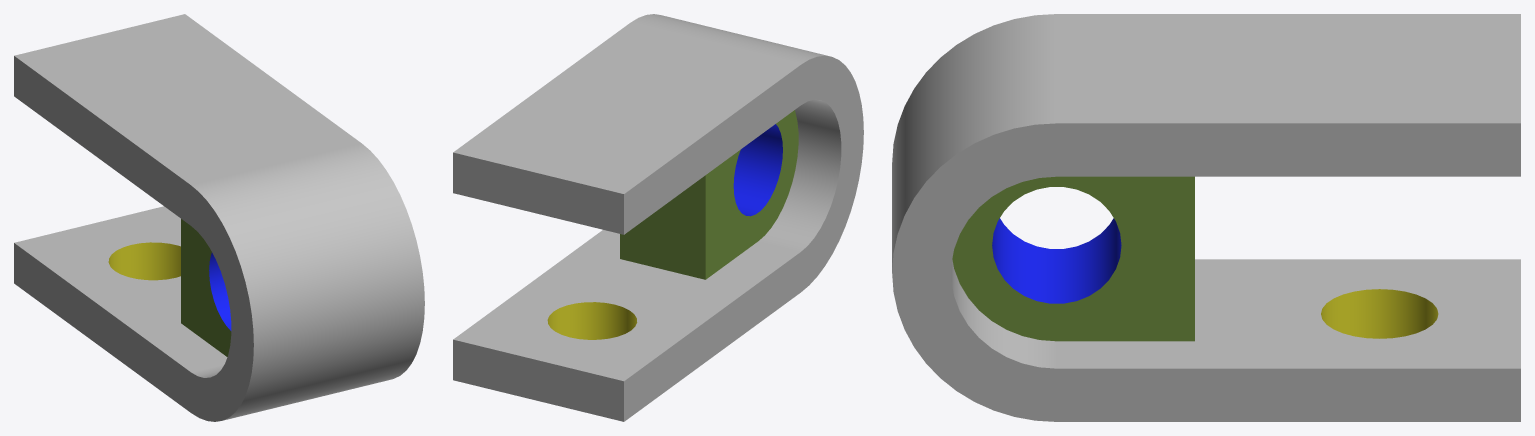
3 views of the same model, side by side, from view 1: azimuth 30°, elevation 25°; view 2: azimuth 150°, elevation 25°; view 3: azimuth 270°, elevation 25° (orthographic). The views are drawn at different scales.
Visible parts, largest first — view 1: Solid2; view 2: Solid2; view 3: Solid2.
Boxes of the visible parts, <box> form: Solid2: <box>14,14,424,421</box>; Solid2: <box>453,14,863,421</box>; Solid2: <box>892,14,1520,421</box>.
Bounding box in the file's own units: 0.044 × 0.056 × 0.1069.
